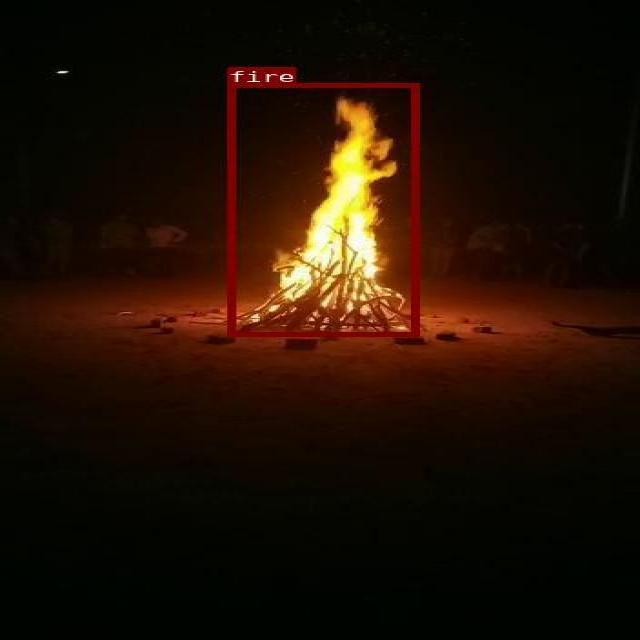fire: (227, 83, 417, 336)
